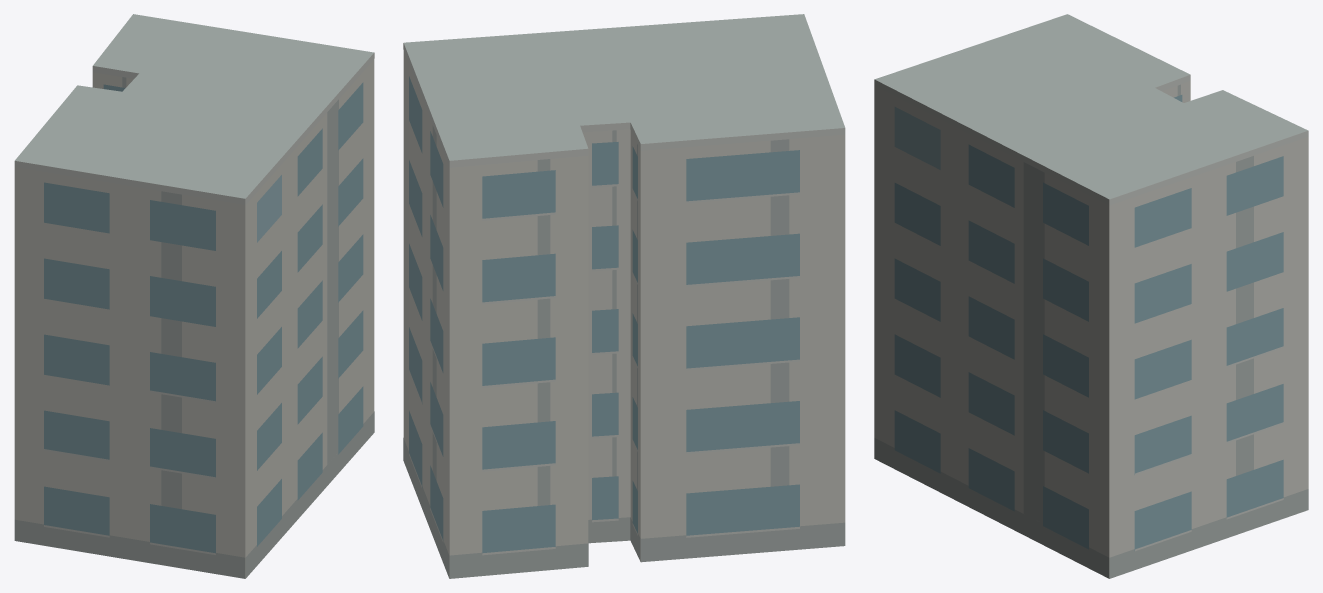
The model's file is survey-upis-32687345.glb.
The picture shows the model from 3 angles, left to right: view 1: azimuth 30°, elevation 25°; view 2: azimuth 150°, elevation 25°; view 3: azimuth 270°, elevation 25°; orthographic projection. The views are drawn at different scales.
Parts seen in each view (by area): view 1: survey-upis-32687345.tmp; view 2: survey-upis-32687345.tmp; view 3: survey-upis-32687345.tmp.
Boxes of the visible parts, box(x1,y1,x2,y2) form: survey-upis-32687345.tmp: box(14, 14, 374, 578); survey-upis-32687345.tmp: box(403, 14, 845, 578); survey-upis-32687345.tmp: box(874, 14, 1308, 578).
Bounding box in the file's own units: 15.52 × 14.8 × 15.35.
